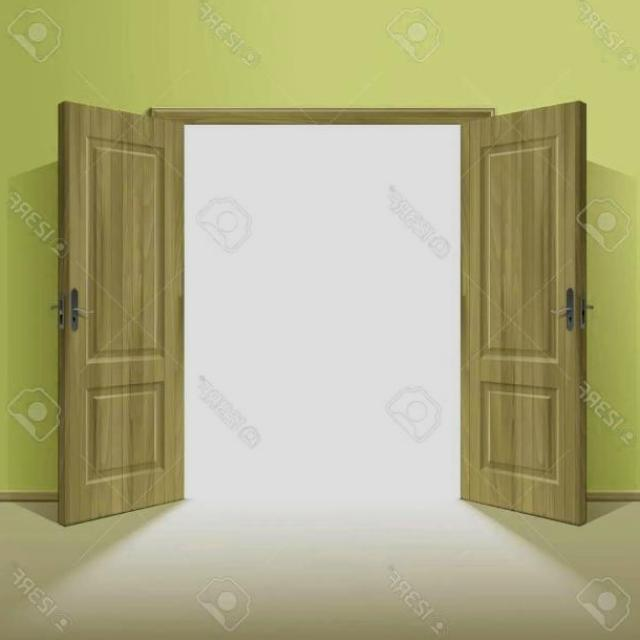door: (459, 99, 588, 525), (55, 99, 184, 525)
